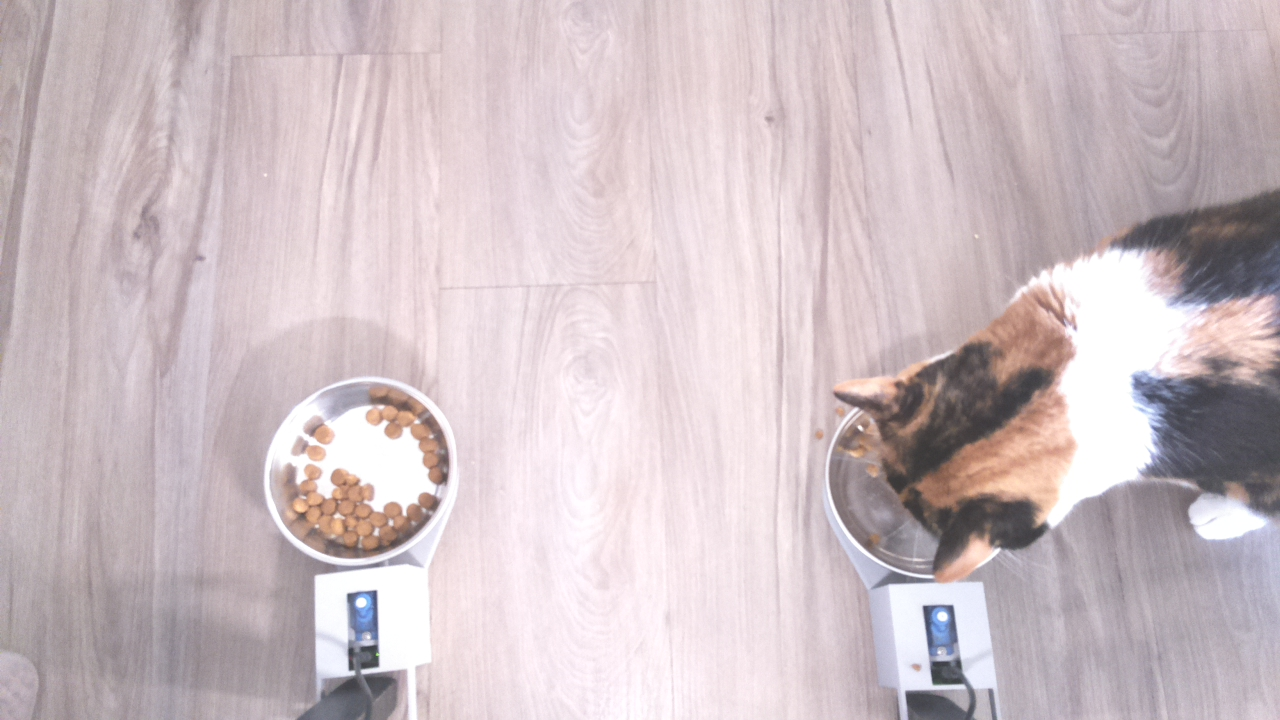bella_eating: (823, 297, 1151, 580)
open_bowl: (261, 366, 461, 569)
